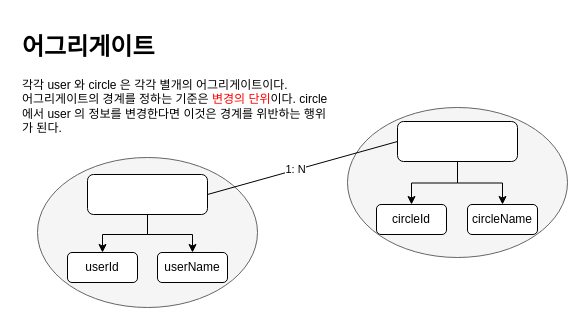
Image size: 585x325. Some labels were removed from this diagram. The centre of each missing label's shape, as x and y in pixels:
circle <aggregate root>: (x=457, y=141)
user <aggregate root>: (x=147, y=194)
